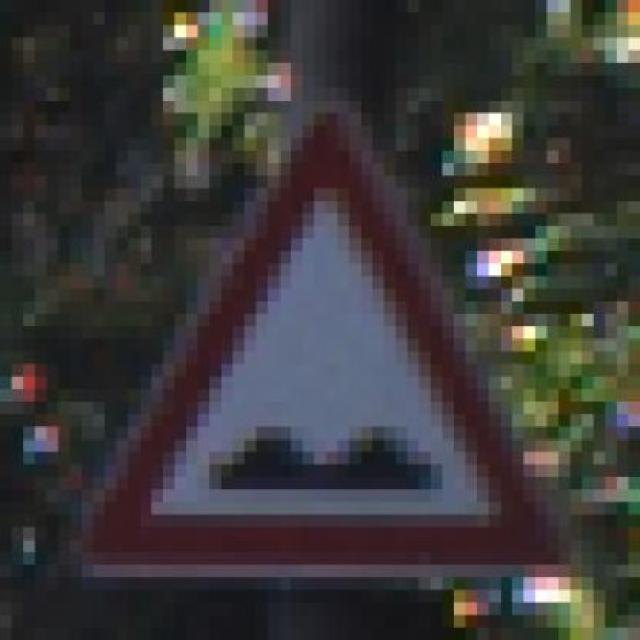Uneven Road: (58, 101, 582, 590)
